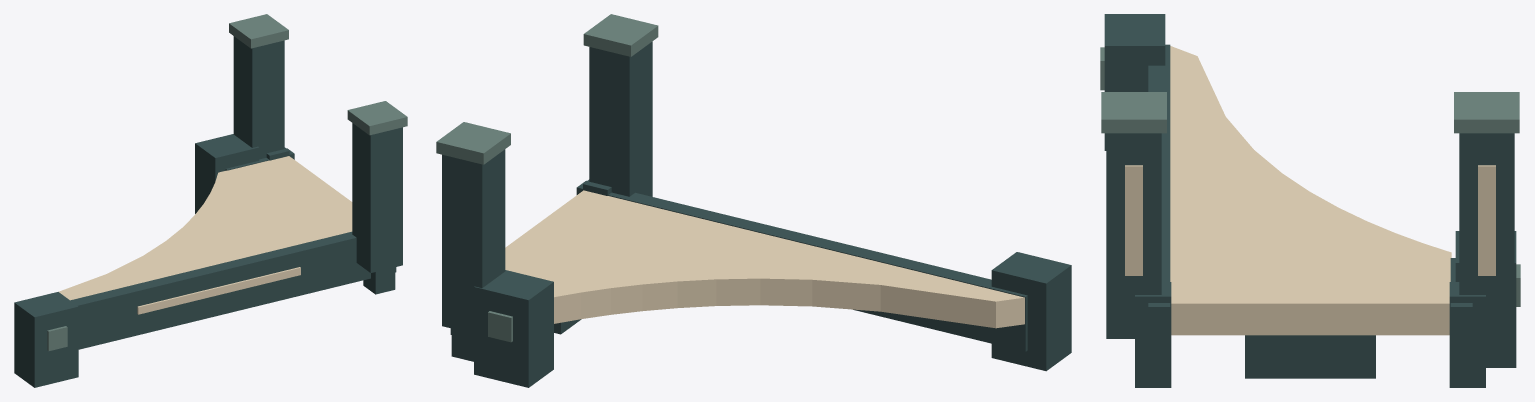
Rendered from Pier_Angled_55_Switch_lab2.glb.
3 renders of one model, left to right at view 1: azimuth 30°, elevation 25°; view 2: azimuth 150°, elevation 25°; view 3: azimuth 270°, elevation 25°, orthographic. The views are drawn at different scales.
Parts seen in each view (by area): view 1: Pier_Angled_55_Switch; view 2: Pier_Angled_55_Switch; view 3: Pier_Angled_55_Switch.
Boxes of the visible parts, x1,y1,x2,y2 form: Pier_Angled_55_Switch: (14, 14, 407, 387); Pier_Angled_55_Switch: (436, 14, 1071, 387); Pier_Angled_55_Switch: (1100, 14, 1520, 387).
Bounding box in the file's own units: 6.41 × 2.95 × 4.17.
